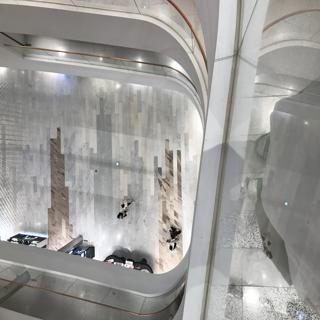person: (165, 221, 184, 252), (117, 191, 138, 211)
